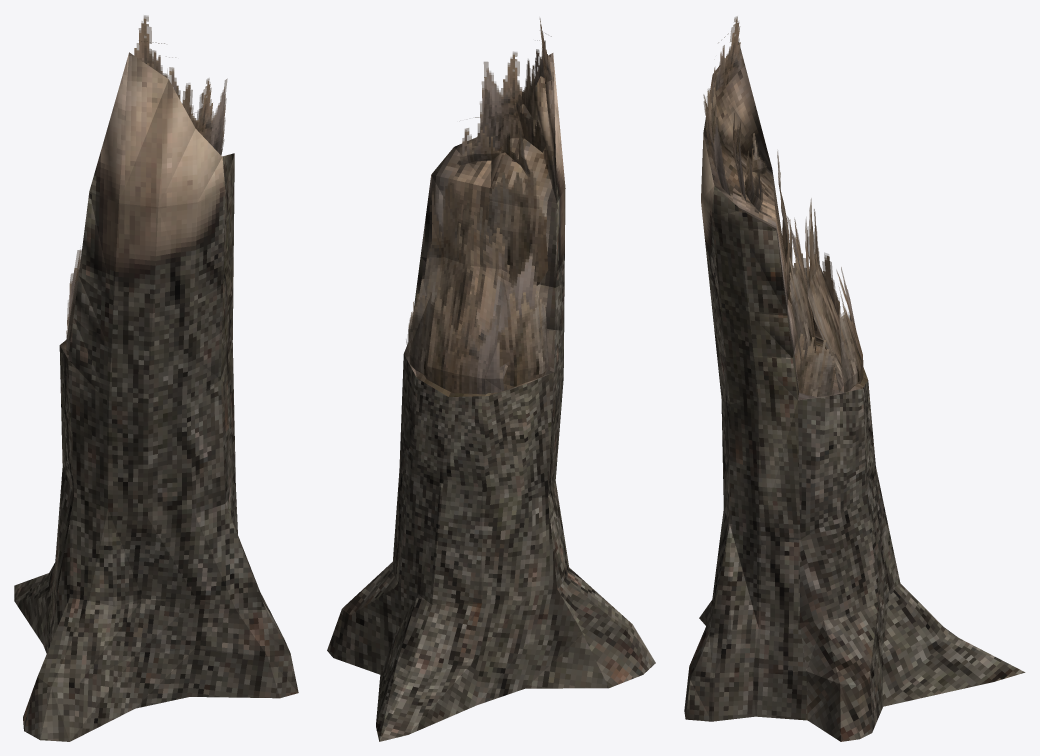
File: pine_tree_trunk_01.glb
The picture shows the model from 3 angles, left to right: view 1: azimuth 30°, elevation 25°; view 2: azimuth 150°, elevation 25°; view 3: azimuth 270°, elevation 25°; orthographic projection. The views are drawn at different scales.
Parts seen in each view (by area): view 1: pine_tree_trunk_01; view 2: pine_tree_trunk_01; view 3: pine_tree_trunk_01.
Boxes of the visible parts, x1=… form: pine_tree_trunk_01: x1=14, y1=15, x2=298, y2=741; pine_tree_trunk_01: x1=327, y1=18, x2=655, y2=741; pine_tree_trunk_01: x1=684, y1=16, x2=1025, y2=741.
Size of the model in its own units: 0.7058 by 1.61 by 0.7619.
Materials: 1 (1 with a texture image).
